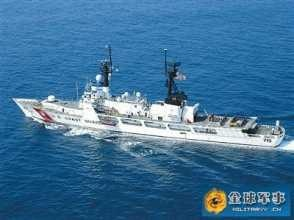warship: (11, 45, 286, 152)
